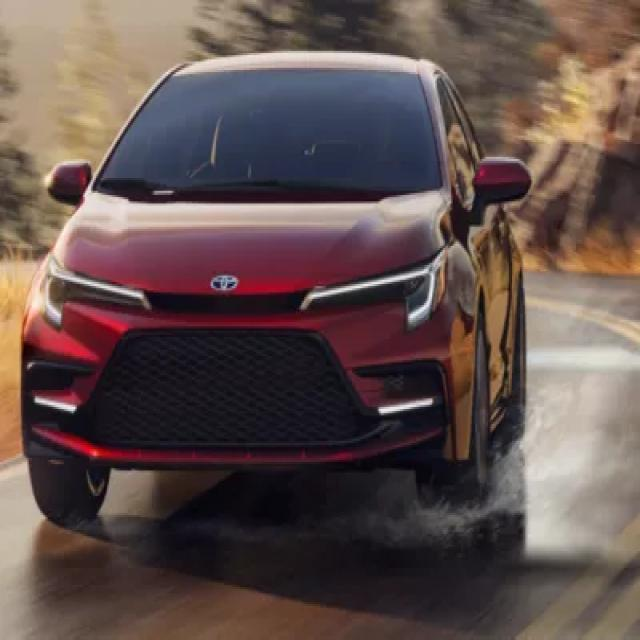pickup: (18, 47, 532, 540)
